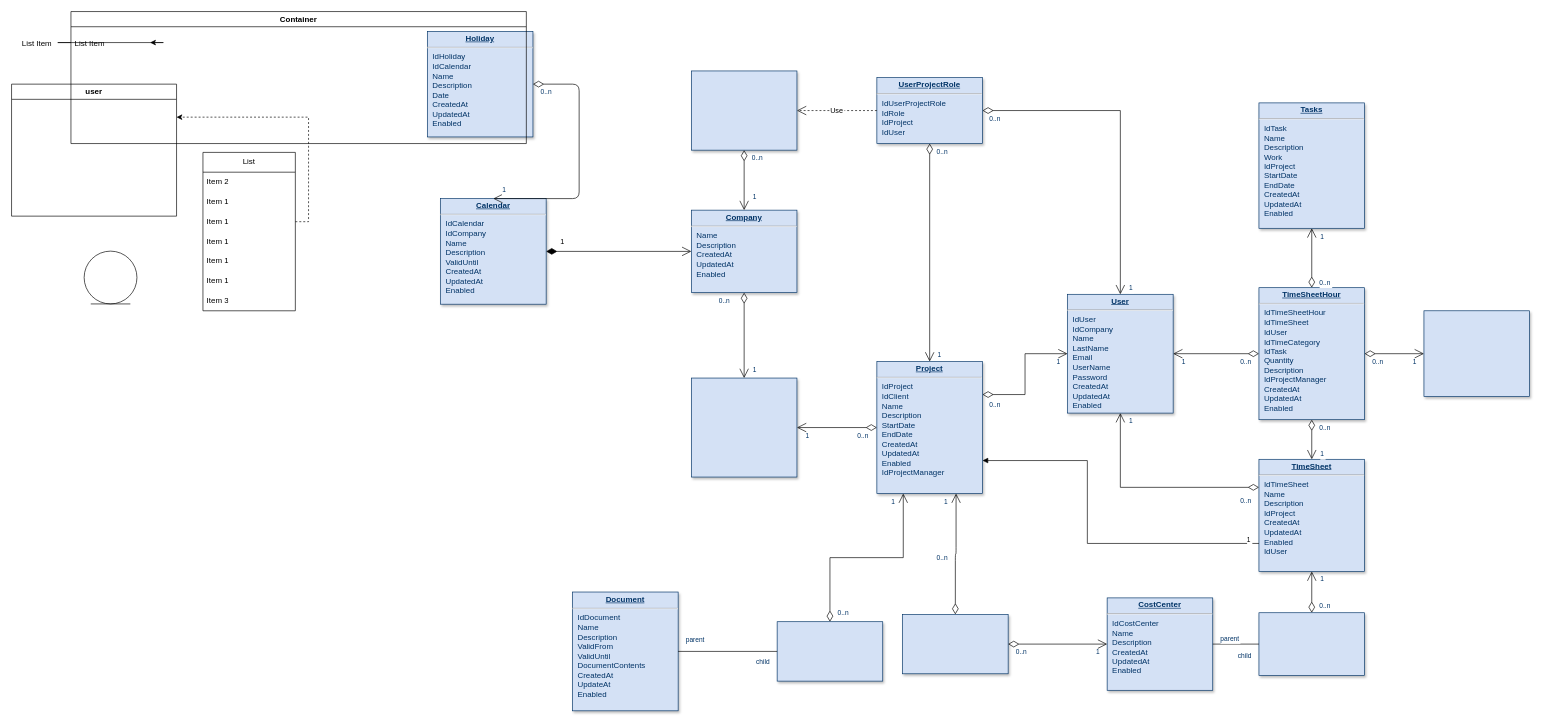
Some shapes in this 1545 by 727 pixel diagram are drawn without their labels. The centre of each missing label's shape, as x and y in pixels:
Client IdClient IdCompany Name Description CreatedAt UpdatedAt Enabled: point 744,428
Entity Object: point 110,277
ProjectCostCenter IdProjectCostCenter IdProject IdCostCenter: point 955,644
ProjectDocument IdProjectDocument IdProject IdDocument: point 830,652
Role IdCompany Name Description CreatedAt UpdatedAt Enabled: point 744,111
TimeCategory IdTimeCategory Name Description CreatedAt UpdatedAt Enabled: point 1477,354
TimeSheetCostCenter IdTimeSheetCostCenter IdTimeSheet IdCostCenter: point 1312,644
